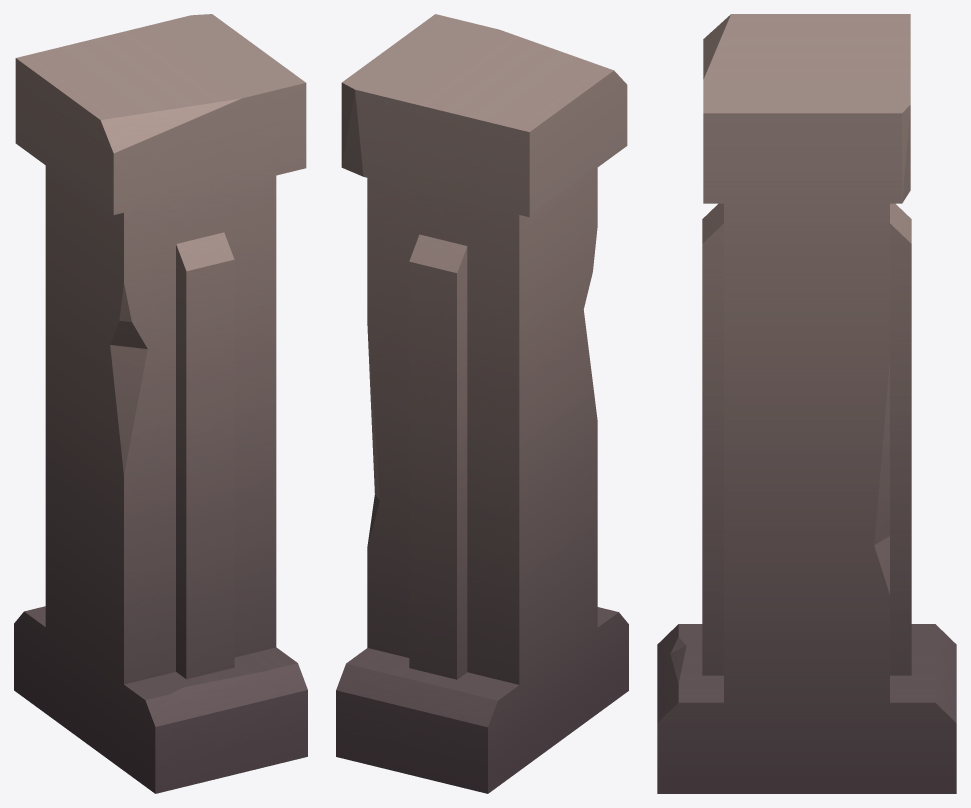
Rendered from fenceAPillar3.glb.
3 renders of one model, left to right at view 1: azimuth 30°, elevation 25°; view 2: azimuth 150°, elevation 25°; view 3: azimuth 270°, elevation 25°, orthographic. The views are drawn at different scales.
Visible parts, largest first — view 1: fenceAPillar3; view 2: fenceAPillar3; view 3: fenceAPillar3.
Part boxes in pixels (x1=…): fenceAPillar3: x1=14, y1=14, x2=307, y2=793; fenceAPillar3: x1=336, y1=14, x2=628, y2=793; fenceAPillar3: x1=657, y1=14, x2=956, y2=793.
Bounding box in the file's own units: 0.6407 × 2.08 × 0.8154.
Materials: 1 (1 with a texture image).
